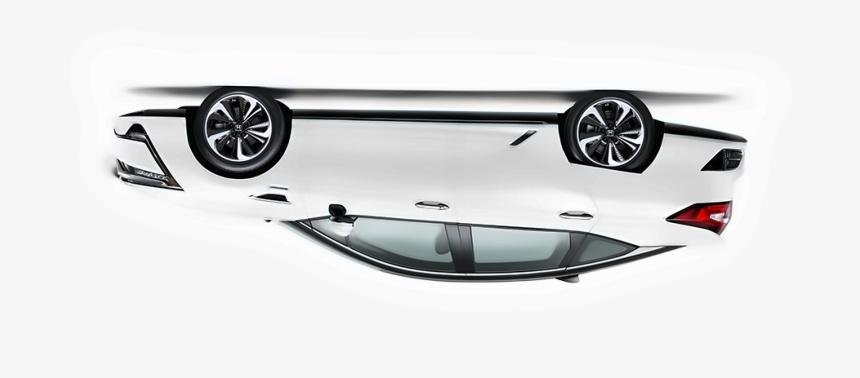Driver-s door - -F-R-: (289, 89, 473, 288)
Fender - -F-R-: (185, 147, 311, 226)
Fender - -R-R-: (551, 156, 677, 255)
Front bumper: (108, 103, 194, 152)
Headlight - -R-: (109, 155, 183, 190)
Passenger-s door - -R-R-: (453, 97, 594, 285)
Rear bumper: (647, 119, 751, 201)
Rear light - -R-: (665, 202, 734, 238)
Side bumper - -R-: (282, 104, 568, 175)
Side mirror - -R-: (324, 200, 358, 238)
